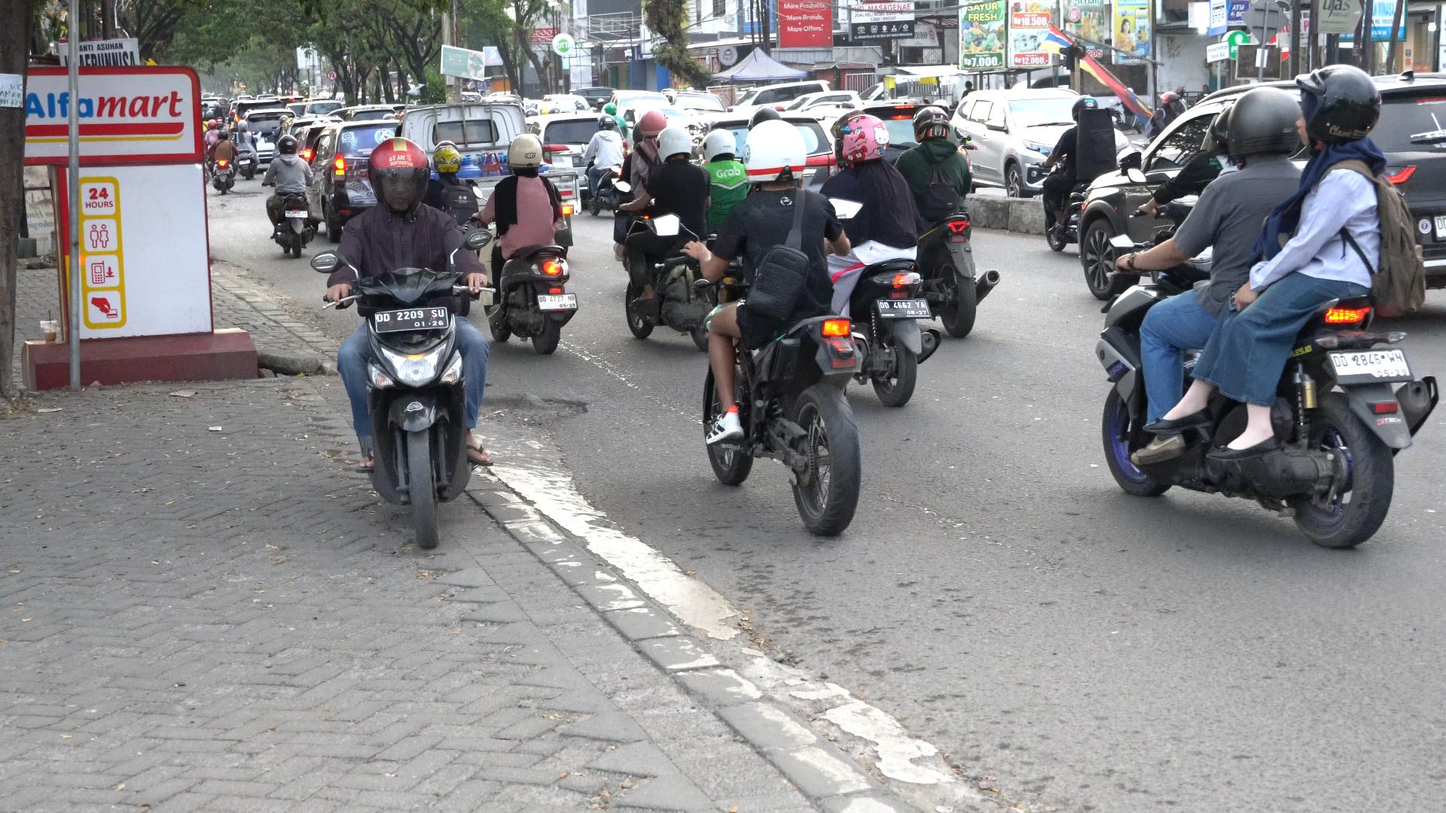number-plate: (374, 305, 451, 334)
